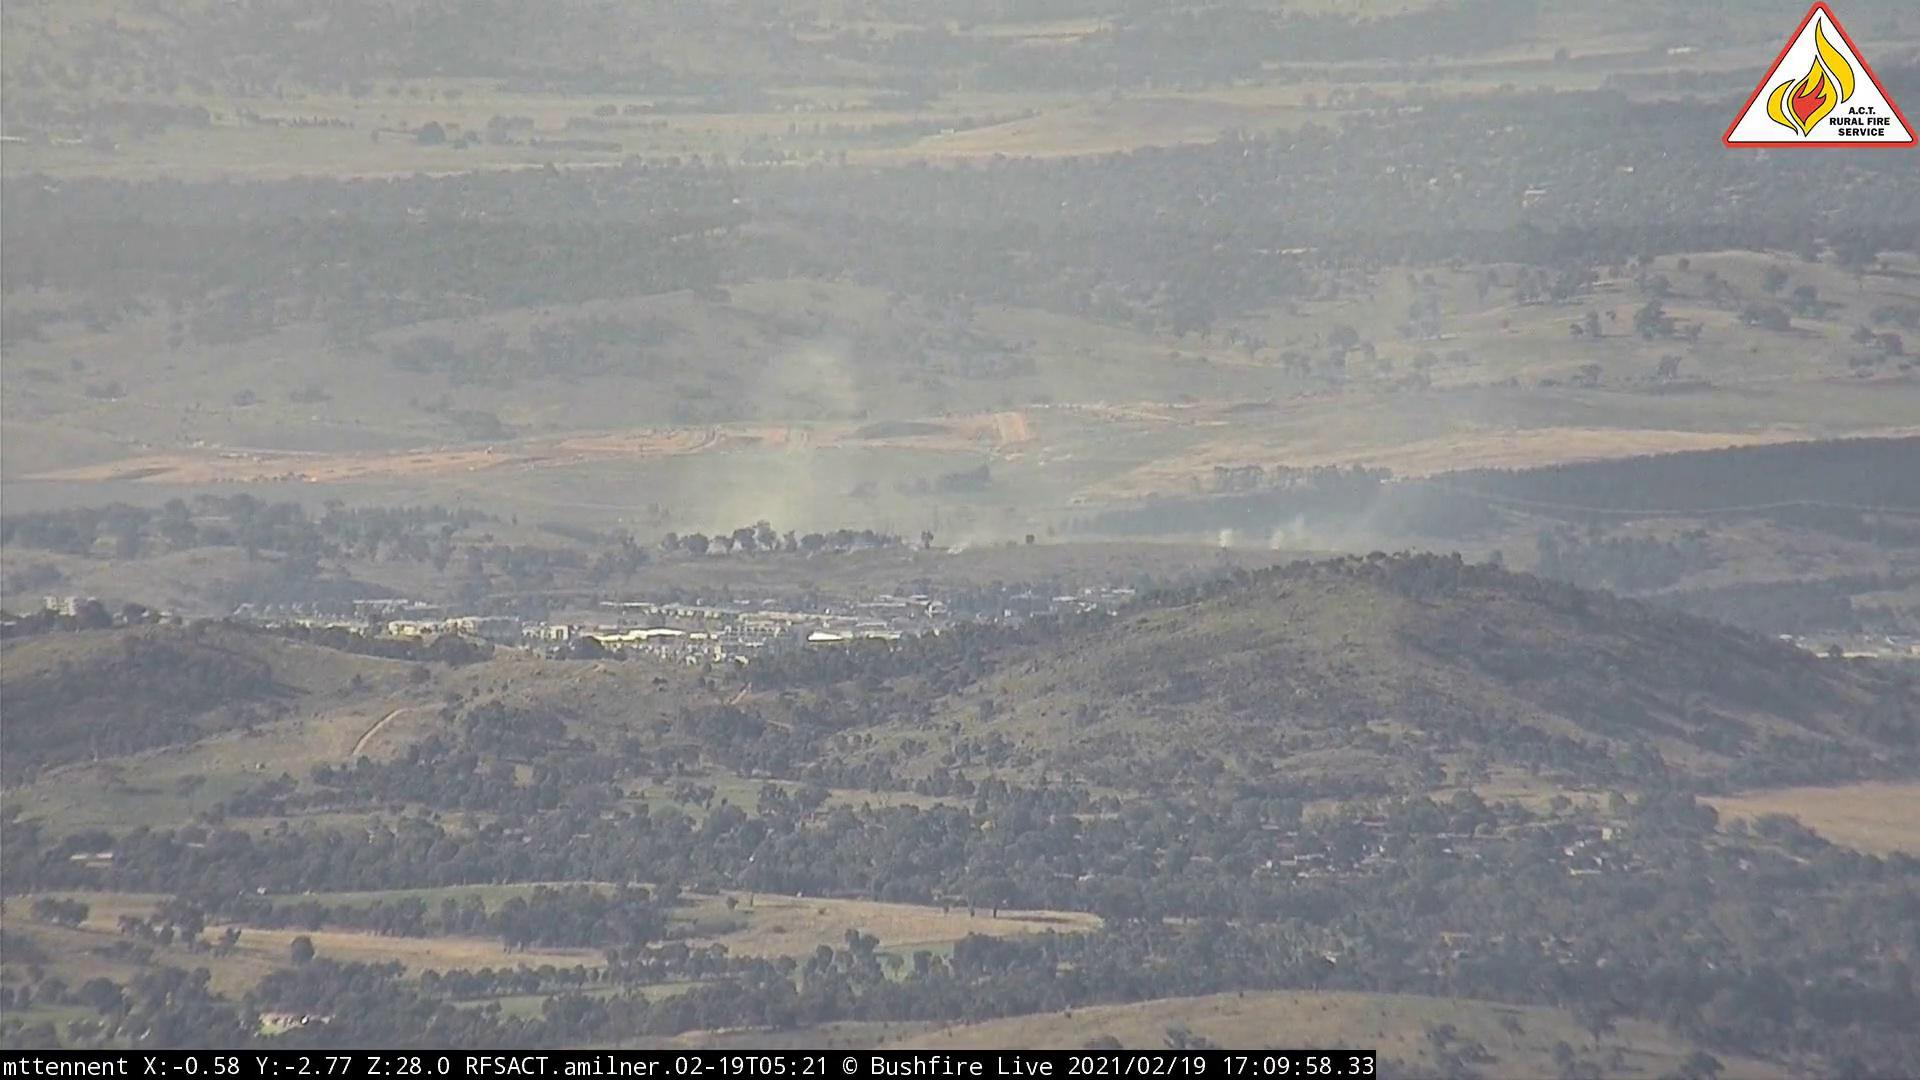Smoke: (669, 286, 1055, 562), (1215, 415, 1486, 555)
